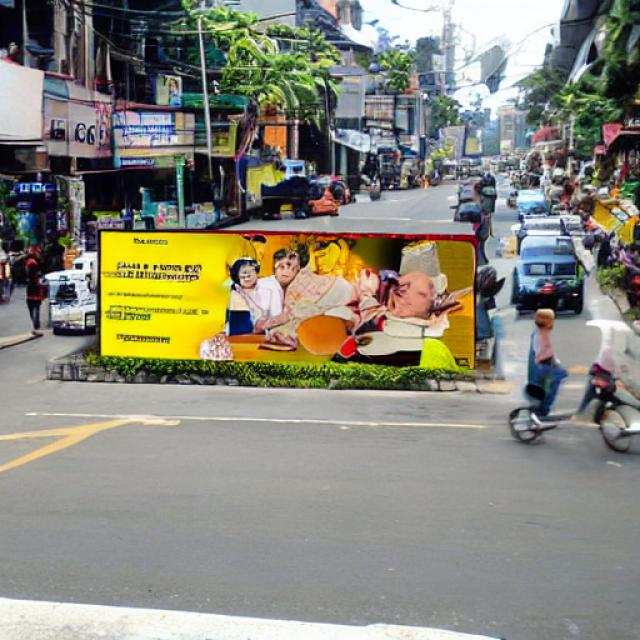Billboard: (99, 227, 479, 379)
